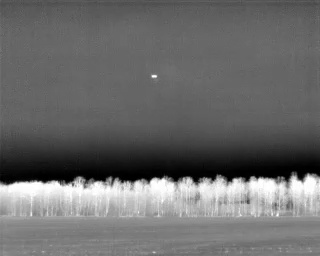DRONE: (148, 71, 160, 83)
